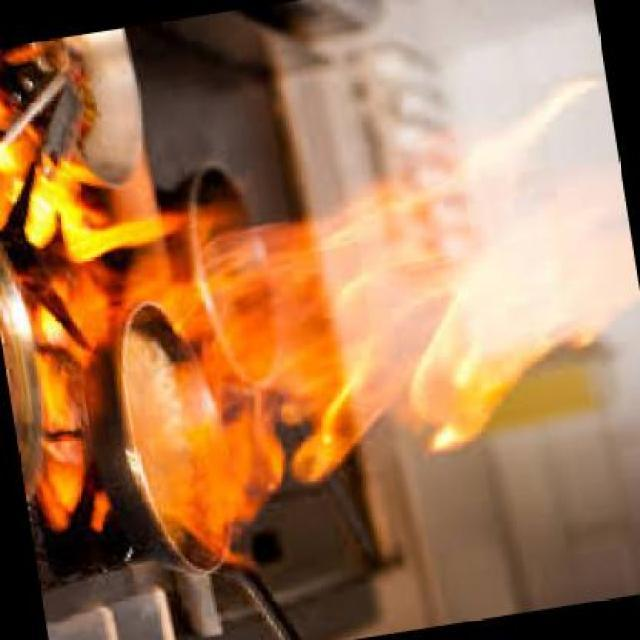Fire: (0, 89, 640, 522)
